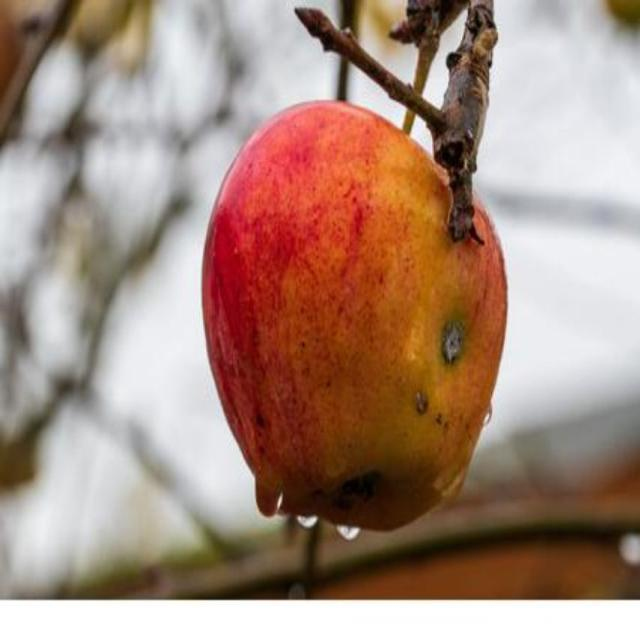Rotten Apple: (187, 76, 527, 552)
